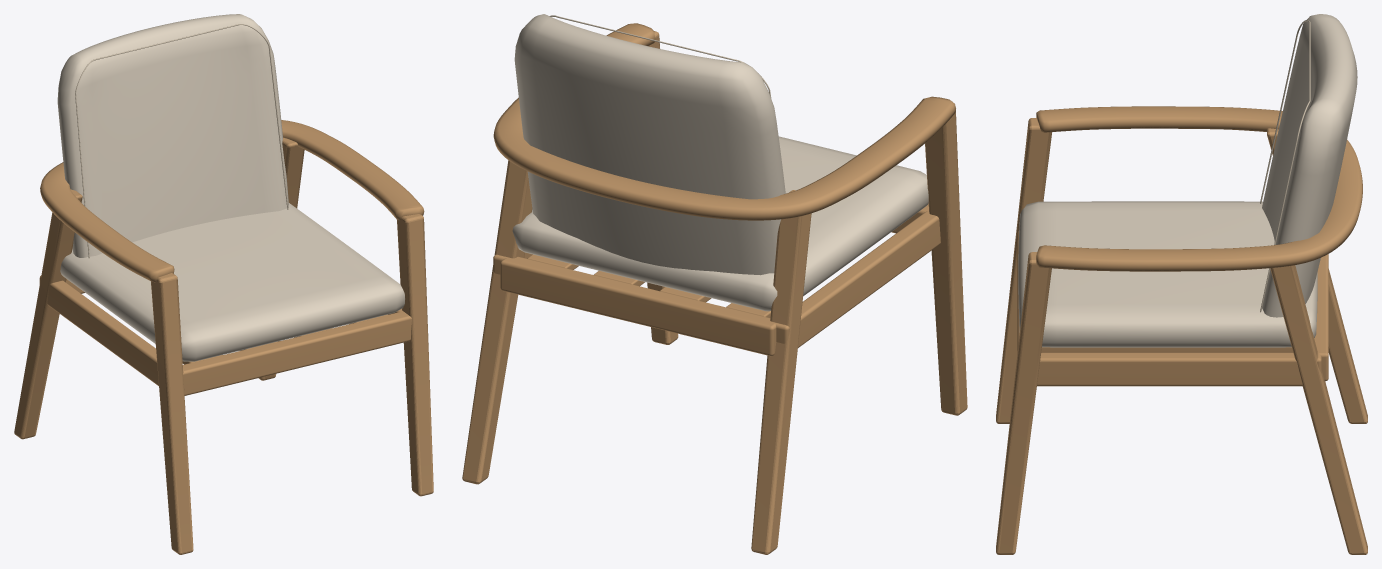
The model's file is chair-s05118-v1.glb.
3 views of the same model, side by side, from view 1: azimuth 30°, elevation 25°; view 2: azimuth 150°, elevation 25°; view 3: azimuth 270°, elevation 25° (orthographic). The views are drawn at different scales.
Visible parts, largest first — view 1: back-cushion, seat-cushion, wraparound-arm, seat-front-rail, front-leg--1, front-leg-1, rear-leg--1, seat-side--1, rear-leg-1, back-piping; view 2: back-cushion, seat-cushion, wraparound-arm, seat-back-rail, rear-leg--1, front-leg--1, rear-leg-1, seat-side--1; view 3: seat-cushion, back-cushion, wraparound-arm, seat-side-1, rear-leg-1, front-leg-1, front-leg--1, rear-leg--1, seat-slat-3, seat-back-rail, back-piping.
Boxes of the visible parts, x1,y1,x2,y2 form: back-cushion: (57, 14, 288, 257); seat-cushion: (60, 203, 404, 361); wraparound-arm: (40, 120, 424, 282); seat-front-rail: (182, 311, 411, 395); front-leg--1: (151, 273, 193, 554); front-leg-1: (397, 214, 433, 496); rear-leg--1: (14, 189, 82, 439); seat-side--1: (39, 275, 158, 385); rear-leg-1: (258, 137, 304, 380); back-piping: (75, 24, 288, 258); back-cushion: (514, 14, 785, 275); seat-cushion: (512, 136, 928, 311); wraparound-arm: (493, 23, 955, 220); seat-back-rail: (500, 256, 776, 356); rear-leg--1: (751, 190, 811, 554); front-leg--1: (925, 110, 967, 415); rear-leg-1: (462, 160, 532, 484); seat-side--1: (775, 211, 940, 347); seat-cushion: (1018, 201, 1317, 347); back-cushion: (1262, 14, 1357, 317); wraparound-arm: (1036, 106, 1362, 271); seat-side-1: (1037, 352, 1321, 386); rear-leg-1: (1270, 265, 1367, 554); front-leg-1: (996, 252, 1051, 554); front-leg--1: (996, 118, 1052, 423); rear-leg--1: (1267, 128, 1367, 423); seat-slat-3: (1041, 347, 1293, 352); seat-back-rail: (1314, 254, 1328, 381); back-piping: (1260, 20, 1310, 312).
Bounding box in the file's own units: 0.66 × 0.84 × 0.66.
